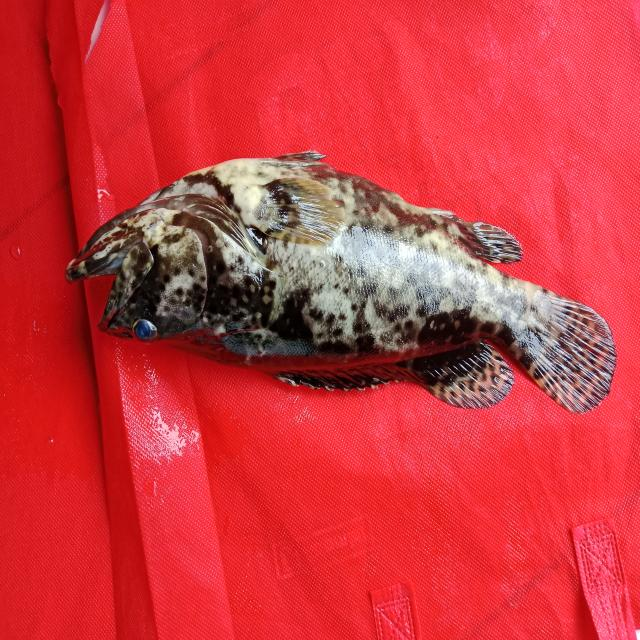ikan: (58, 128, 625, 428)
